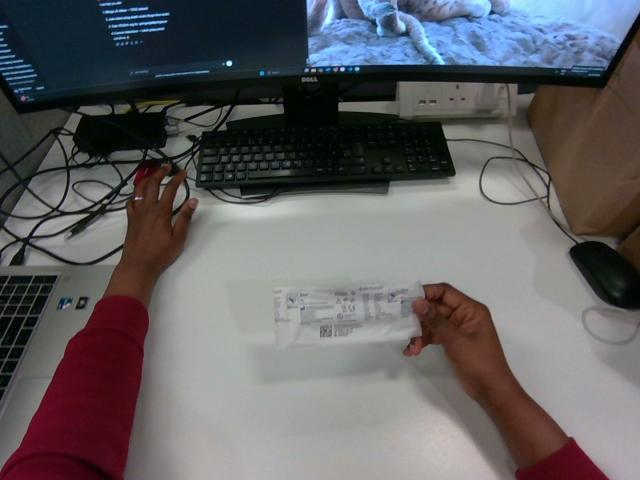syringe: (274, 282, 423, 347)
